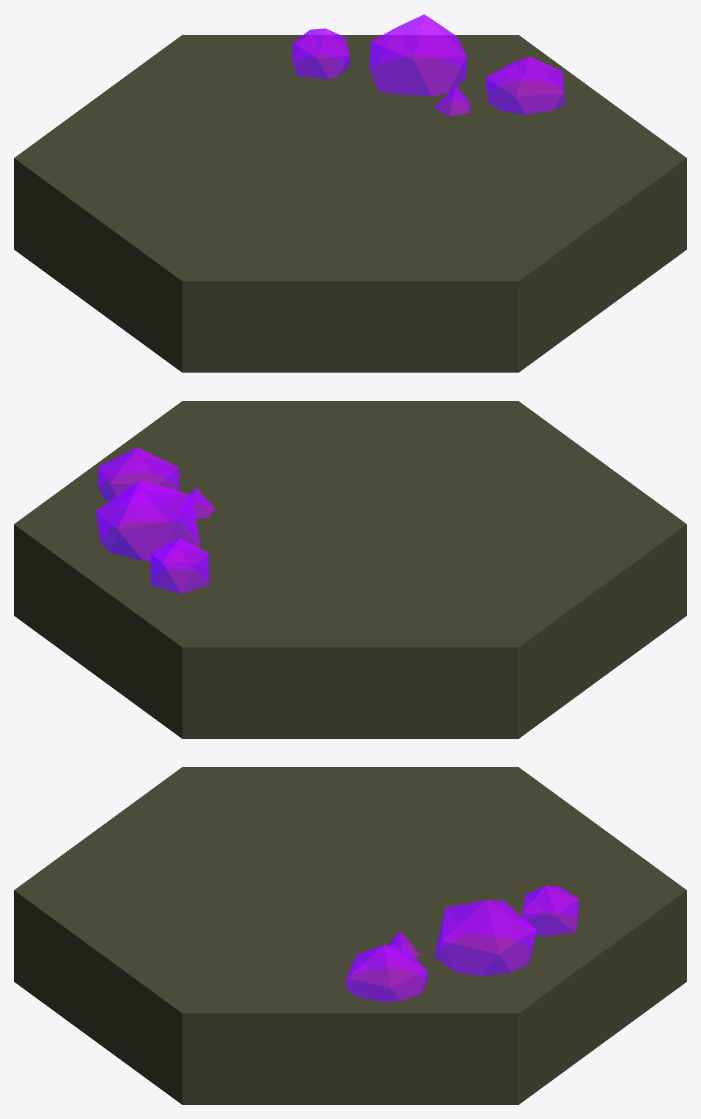
File: GroundUnit(6).fbx
3 views of the same model, one above another, from view 1: azimuth 30°, elevation 25°; view 2: azimuth 150°, elevation 25°; view 3: azimuth 270°, elevation 25° (orthographic).
Parts seen in each view (by area): view 1: GroundUnit2.1; view 2: GroundUnit2.1; view 3: GroundUnit2.1.
Boxes of the visible parts, box(x1,y1,x2,y2) form: GroundUnit2.1: box(14, 14, 686, 372); GroundUnit2.1: box(14, 401, 686, 738); GroundUnit2.1: box(14, 767, 686, 1104).
Size of the model in its own units: 173 by 49.43 by 200.
